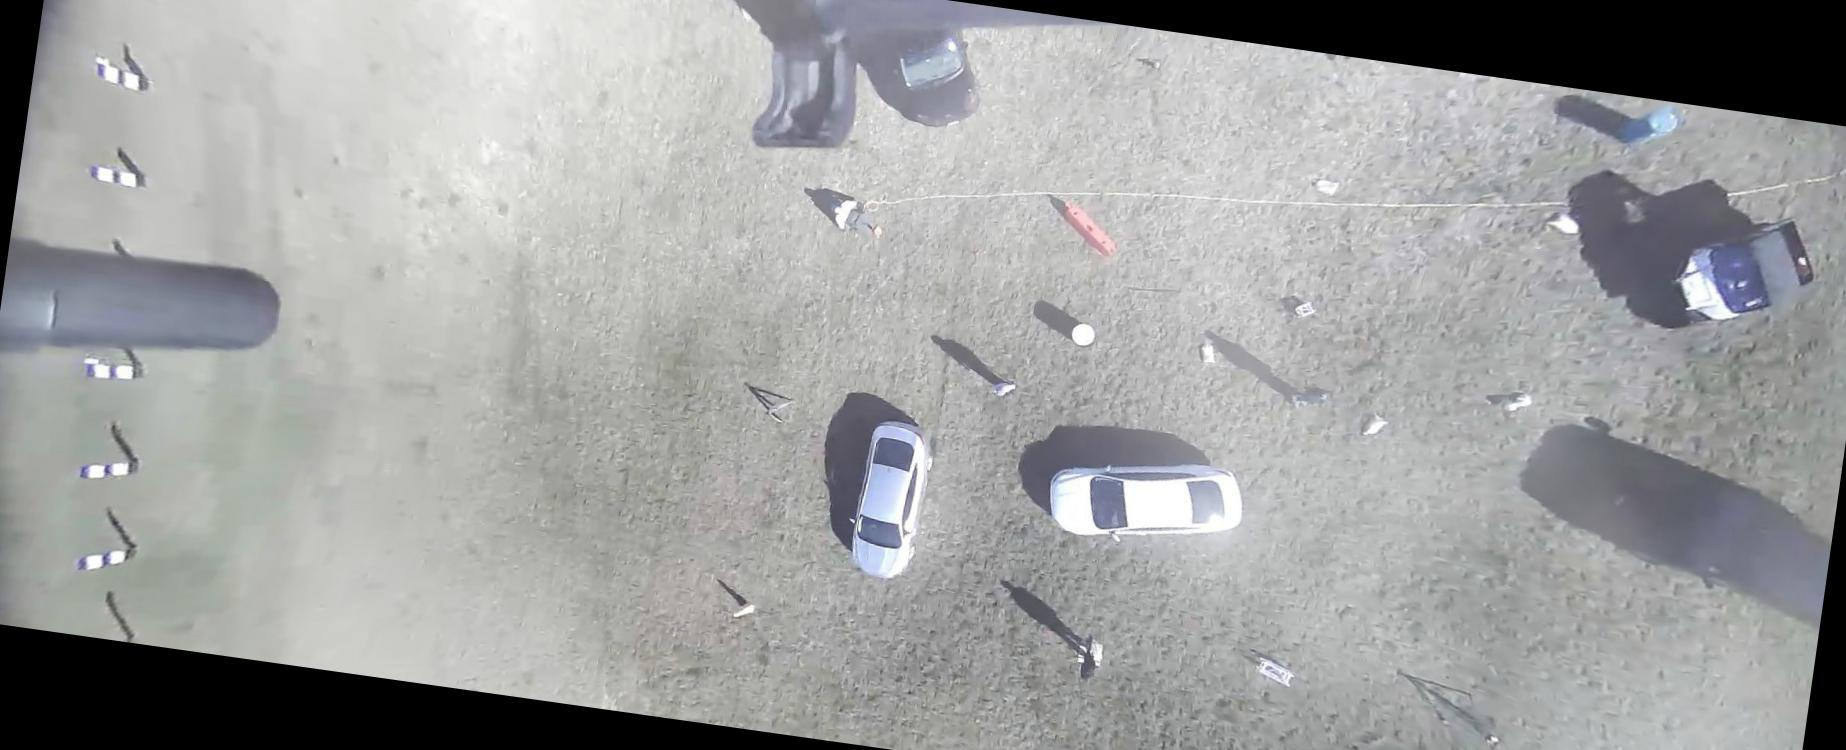vehicle: (1591, 466, 1837, 636), (1044, 442, 1250, 558), (1660, 199, 1826, 341), (841, 414, 941, 583), (879, 17, 992, 133)
